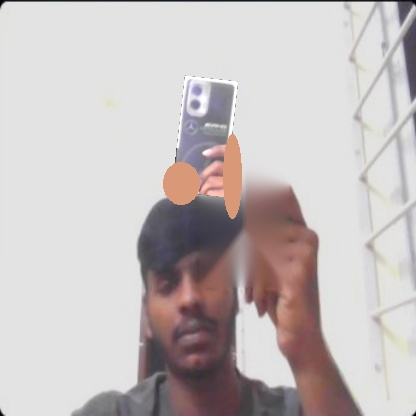cell_phone: (172, 75, 238, 197)
